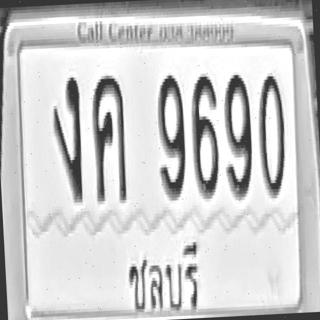A04: (90, 74, 128, 203)
A07: (51, 72, 85, 202)
N00: (255, 72, 288, 198)
N06: (189, 73, 221, 199)
N09: (221, 72, 254, 198), (156, 74, 188, 200)
P13: (121, 231, 205, 320)
